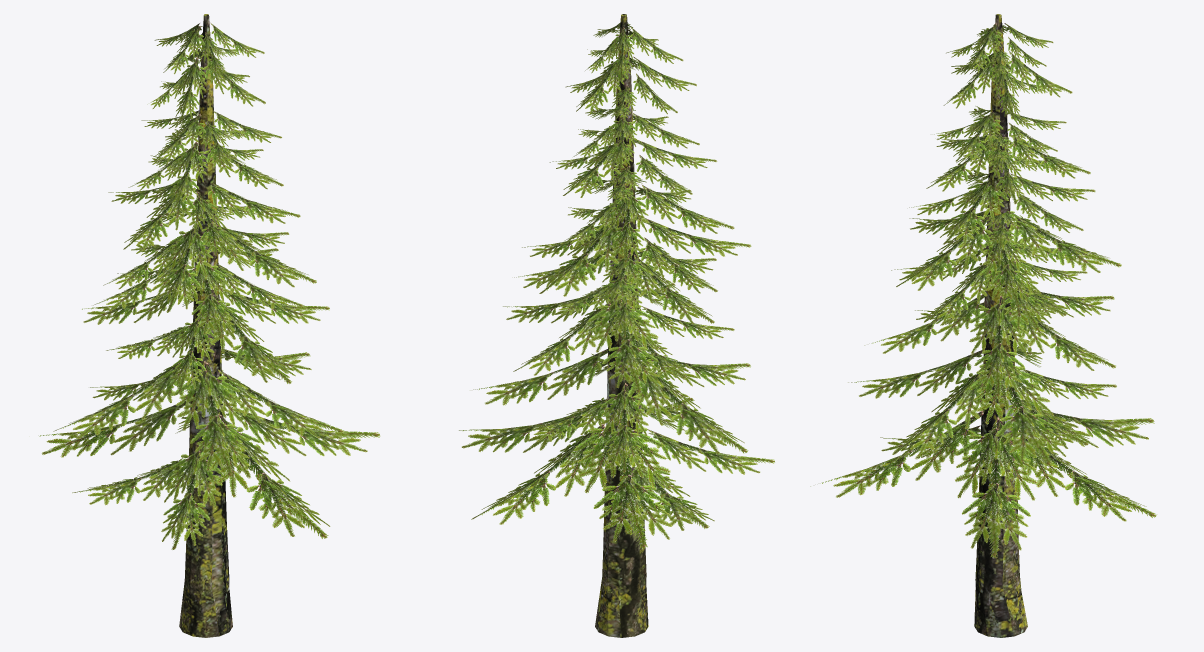
The model's file is pineTree.fbx.
3 views of the same model, side by side, from view 1: azimuth 30°, elevation 25°; view 2: azimuth 150°, elevation 25°; view 3: azimuth 270°, elevation 25° (orthographic).
Visible parts, largest first — view 1: branch.level, Pień, branch.level.001, branch.level.002, branch.level.004, branch.level.005, branch.level.003, branch.level.006, branch.level.007, branch.level.008, branch.level.009; view 2: branch.level, branch.level.001, Pień, branch.level.002, branch.level.004, branch.level.003, branch.level.005, branch.level.006, branch.level.008, branch.level.007, branch.level.009; view 3: branch.level, branch.level.001, Pień, branch.level.002, branch.level.004, branch.level.005, branch.level.003, branch.level.006, branch.level.008, branch.level.007, branch.level.009.
Part boxes in pixels (x1,y1,x2,y2): branch.level: (38, 401, 380, 549); Pień: (179, 14, 232, 637); branch.level.001: (53, 349, 344, 476); branch.level.002: (82, 283, 329, 391); branch.level.004: (103, 207, 316, 312); branch.level.005: (108, 182, 300, 258); branch.level.003: (93, 248, 303, 338); branch.level.006: (128, 129, 283, 207); branch.level.007: (141, 110, 281, 167); branch.level.008: (147, 49, 265, 120); branch.level.009: (154, 22, 264, 78); branch.level: (459, 397, 775, 549); branch.level.001: (473, 349, 750, 472); Pień: (595, 14, 648, 637); branch.level.002: (503, 282, 734, 393); branch.level.004: (522, 215, 751, 303); branch.level.003: (514, 248, 716, 337); branch.level.005: (560, 178, 734, 262); branch.level.006: (549, 139, 717, 203); branch.level.008: (565, 56, 696, 120); branch.level.007: (573, 107, 699, 169); branch.level.009: (585, 22, 683, 80); branch.level: (810, 404, 1157, 557); branch.level.001: (848, 339, 1116, 466); Pień: (974, 14, 1027, 637); branch.level.002: (864, 289, 1115, 397); branch.level.004: (896, 211, 1121, 308); branch.level.005: (909, 168, 1095, 247); branch.level.003: (891, 238, 1087, 330); branch.level.006: (926, 134, 1090, 204); branch.level.008: (943, 51, 1072, 119); branch.level.007: (934, 106, 1066, 163); branch.level.009: (946, 23, 1053, 76).
Bounding box in the file's own units: 675 × 1257 × 708.
Materials: 2 (2 with a texture image).
